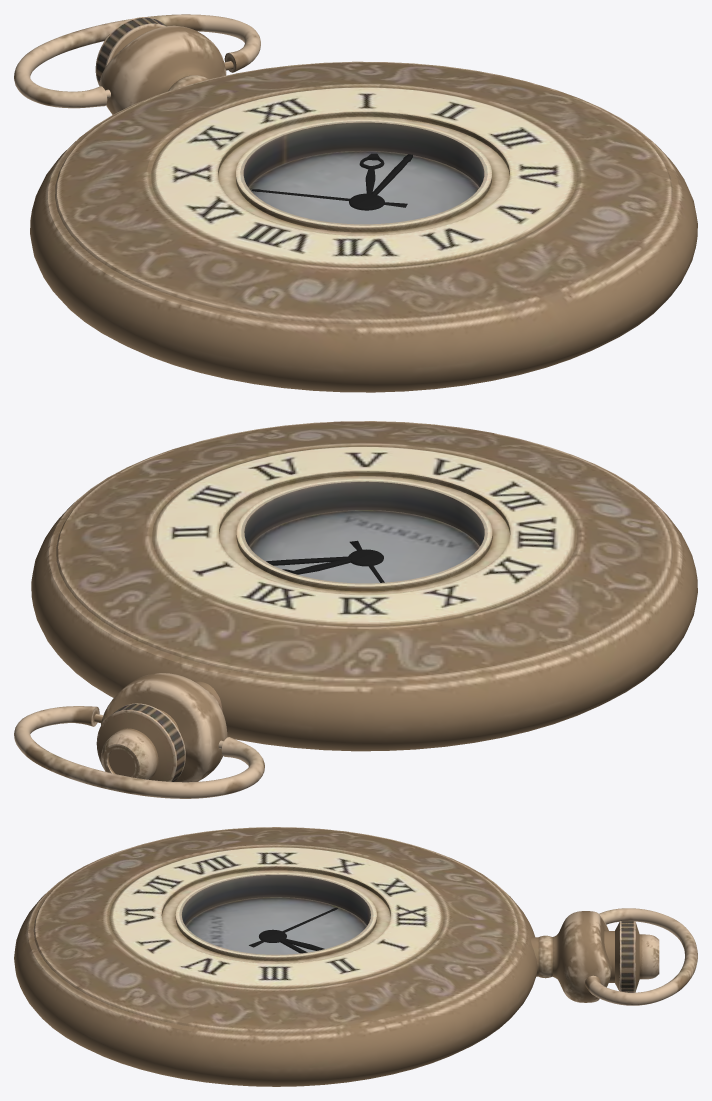
Rendered from pocket-watch.glb.
The picture shows the model from 3 angles, top to bottom: view 1: azimuth 30°, elevation 25°; view 2: azimuth 150°, elevation 25°; view 3: azimuth 270°, elevation 25°; orthographic projection. The views are drawn at different scales.
Parts seen in each view (by area): view 1: vintage_pocket_watch; view 2: vintage_pocket_watch; view 3: vintage_pocket_watch.
Part boxes in pixels (x1,y1,x2,y2): vintage_pocket_watch: [14, 14, 697, 392]; vintage_pocket_watch: [14, 421, 697, 798]; vintage_pocket_watch: [14, 827, 697, 1086].
Bounding box in the file's own units: 0.0613 × 0.0136 × 0.0799.
Materials: 3 (1 with a texture image).
